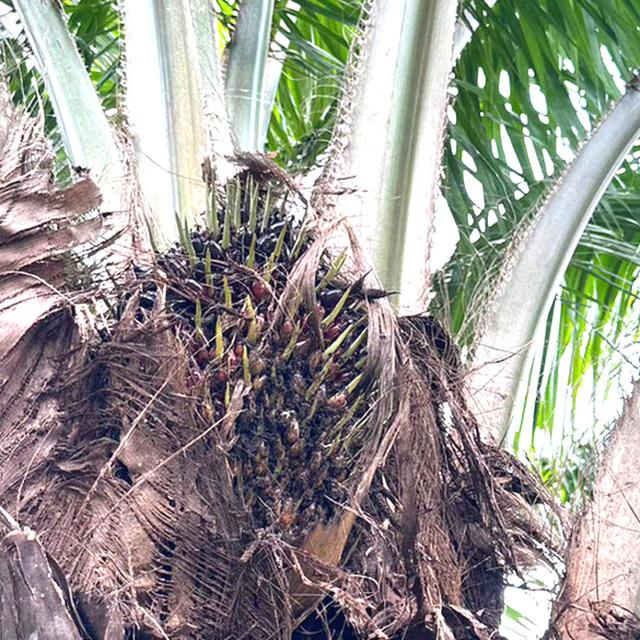unripe: (132, 178, 396, 591)
